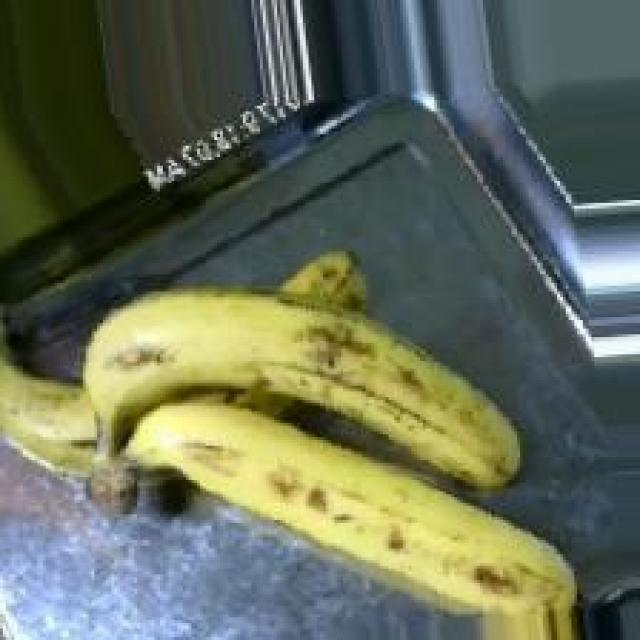banana: (58, 244, 539, 516), (115, 364, 590, 612)
